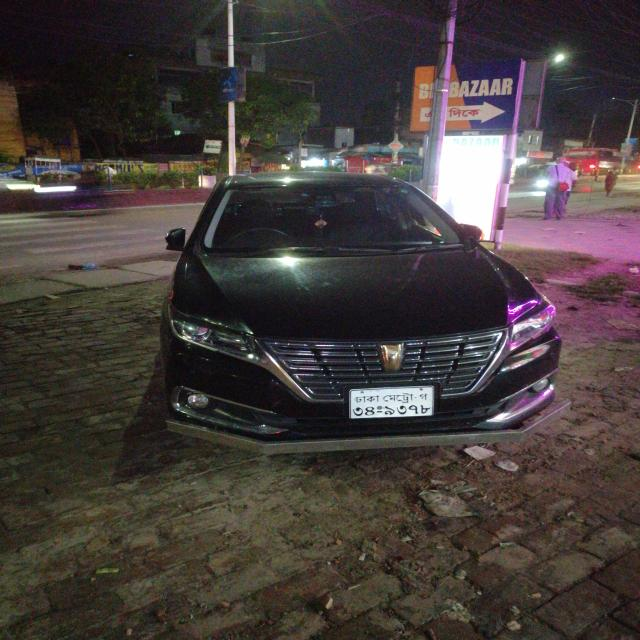Car: (133, 169, 574, 454)
